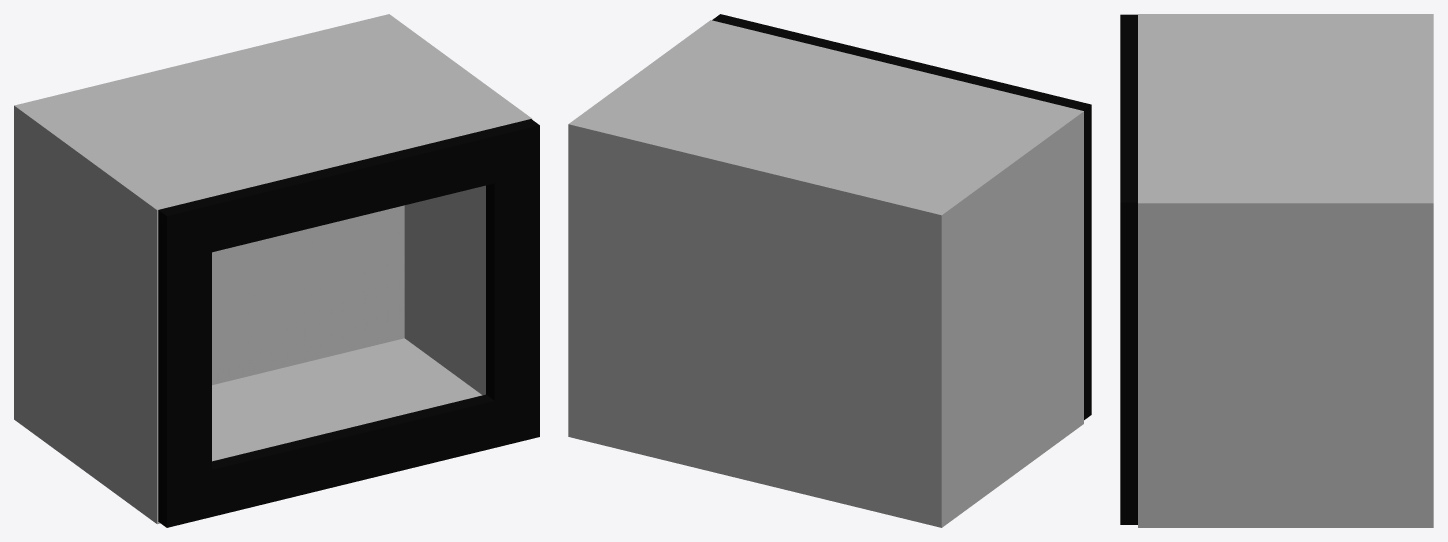
The model's file is dml50.glb.
3 views of the same model, side by side, from view 1: azimuth 30°, elevation 25°; view 2: azimuth 150°, elevation 25°; view 3: azimuth 270°, elevation 25° (orthographic). The views are drawn at different scales.
Visible parts, largest first — view 1: Box001, Box011; view 2: Box001, Box011; view 3: Box001, Box011.
Part boxes in pixels (<box>): Box001: <box>14,14,532,524</box>; Box011: <box>158,119,539,527</box>; Box001: <box>568,20,1083,527</box>; Box011: <box>712,14,1091,419</box>; Box001: <box>1138,14,1433,527</box>; Box011: <box>1120,14,1137,524</box>.
Bounding box in the file's own units: 0.5 × 0.4 × 0.35.
Materials: 2 (1 with a texture image).
